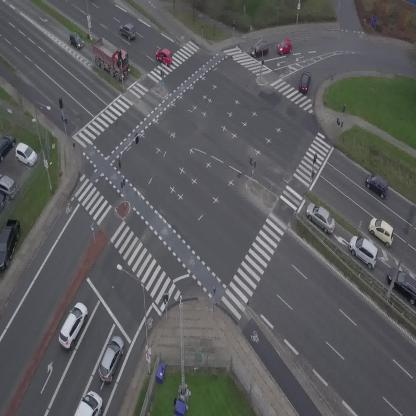car: (54, 299, 92, 350), (94, 334, 128, 385), (343, 231, 385, 271), (301, 199, 341, 236), (364, 214, 400, 248), (362, 171, 392, 198), (153, 45, 176, 67), (65, 30, 86, 52), (118, 22, 136, 41), (275, 39, 293, 55), (249, 42, 268, 57), (299, 70, 311, 92)
lorry: (84, 32, 138, 83), (74, 391, 102, 416)
